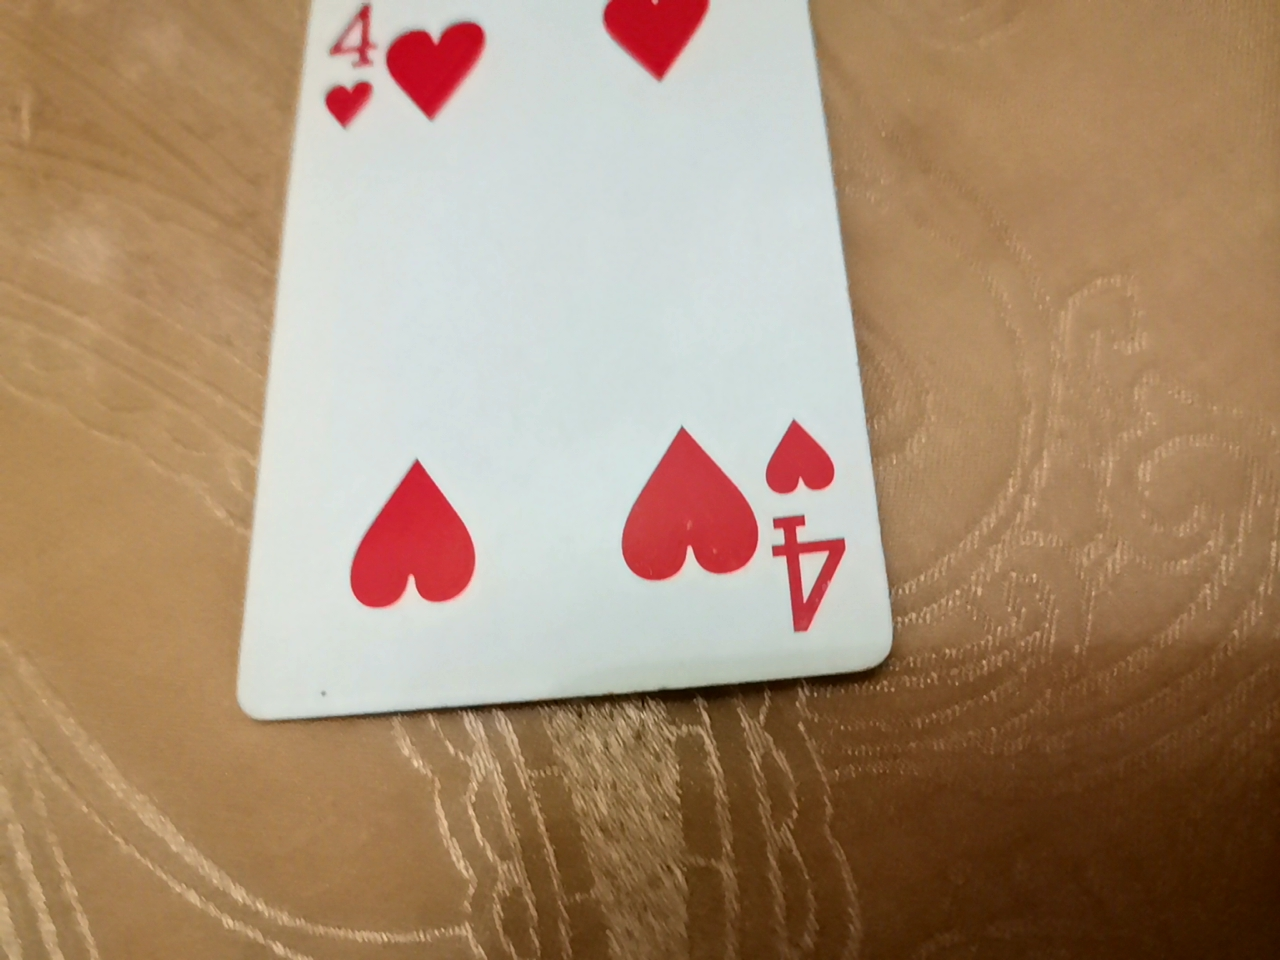hx 4: (228, 15, 889, 730)
